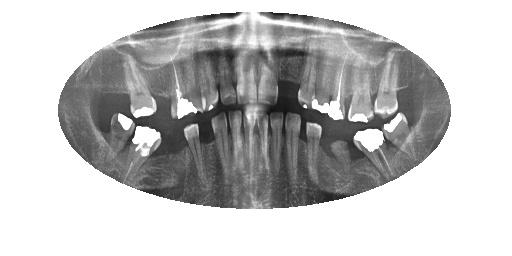i10healthy: (223, 103, 246, 196)
i11healthy: (208, 104, 234, 196)
i12loss: (195, 107, 217, 193)
i13healthy: (180, 116, 209, 202)
i14loss: (152, 114, 190, 196)
i15healthy: (120, 109, 164, 195)
i16healthy: (95, 97, 140, 180)
i1loss: (403, 99, 434, 150)
i2healthy: (380, 108, 421, 168)
i3healthy: (350, 119, 397, 182)
i4chipped: (324, 124, 358, 195)
i5healthy: (299, 109, 329, 198)
i6healthy: (281, 105, 307, 196)
i7healthy: (266, 96, 290, 192)
i8healthy: (249, 96, 276, 188)
i9healthy: (234, 97, 259, 190)
u10healthy: (209, 31, 244, 114)
u11decay: (195, 36, 223, 118)
u12healthy: (180, 40, 206, 118)
u13healthy: (160, 32, 199, 126)
u14loss: (141, 48, 183, 125)
u15healthy: (122, 55, 163, 121)
u2healthy: (369, 44, 404, 120)
u3healthy: (342, 38, 378, 128)
u4healthy: (323, 41, 352, 126)
u5healthy: (308, 36, 331, 121)
u6healthy: (294, 33, 317, 117)
u7loss: (274, 29, 303, 110)
u8healthy: (252, 33, 281, 112)
u9healthy: (228, 27, 261, 108)
